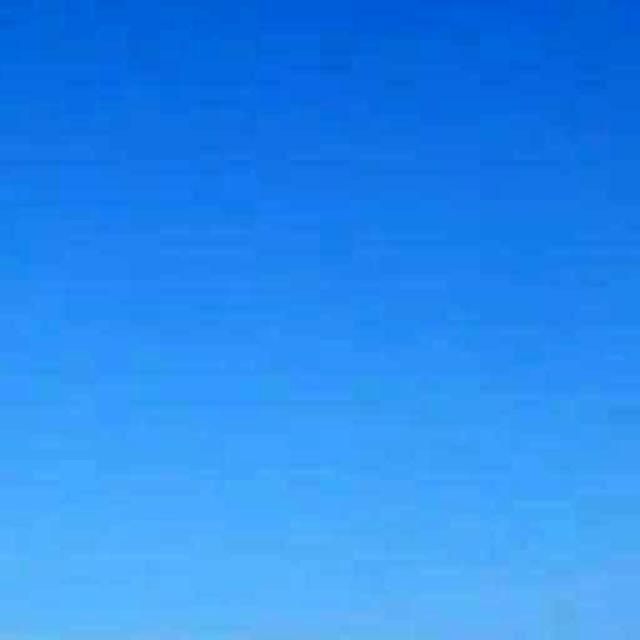drone: (489, 502, 549, 580)
